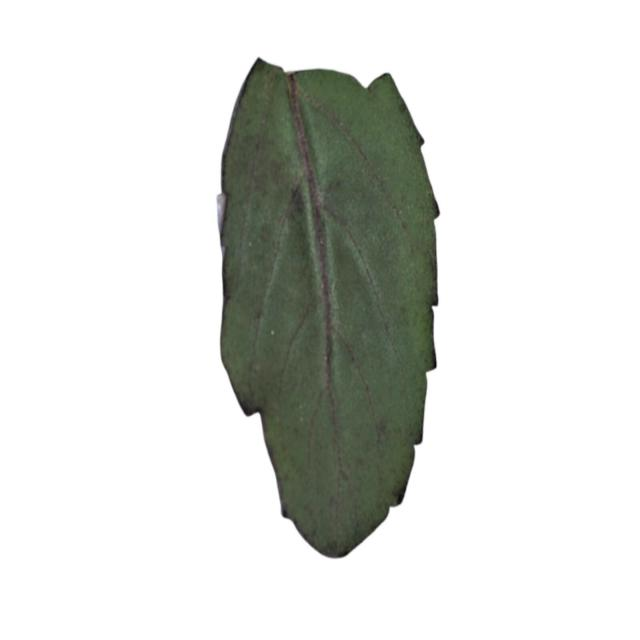tulsi: (219, 54, 442, 562)
